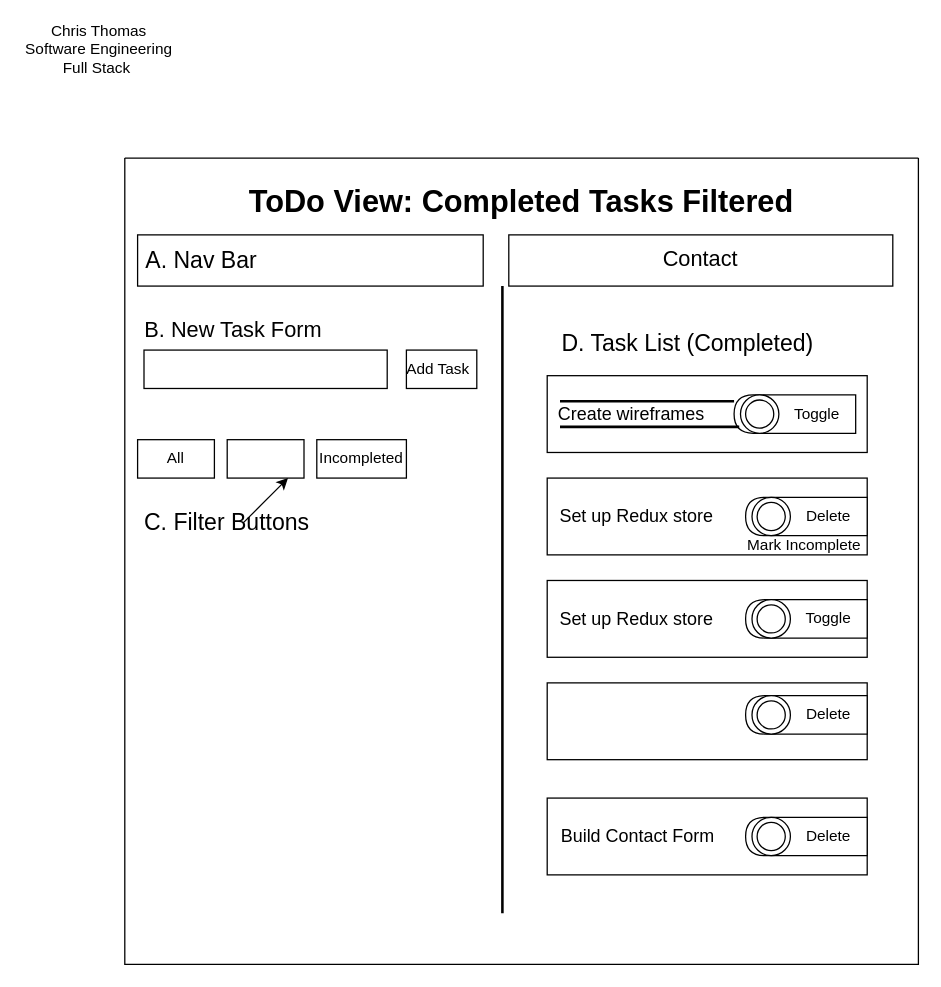
Image size: 941x987. Some labels were removed from this diagram. The centre of each missing label's shape, as x and y in pixels:
Completed: the point at 265,458
Text Input: the point at 265,368
